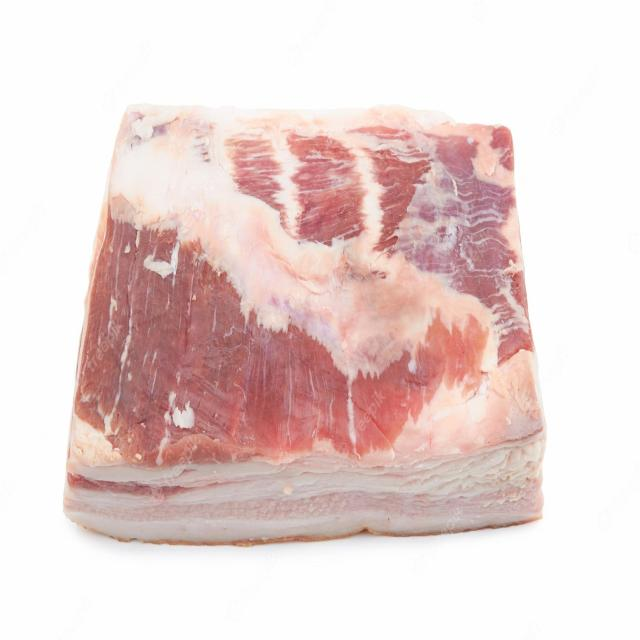pork: (63, 104, 546, 543)
